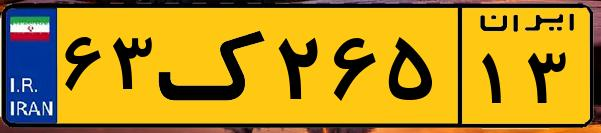1: (475, 38, 525, 113)
2: (270, 28, 330, 110)
3: (525, 38, 570, 115), (110, 28, 158, 98)
5: (385, 28, 445, 110)
6: (330, 28, 385, 110), (57, 26, 110, 100)
ک: (158, 12, 270, 120)
